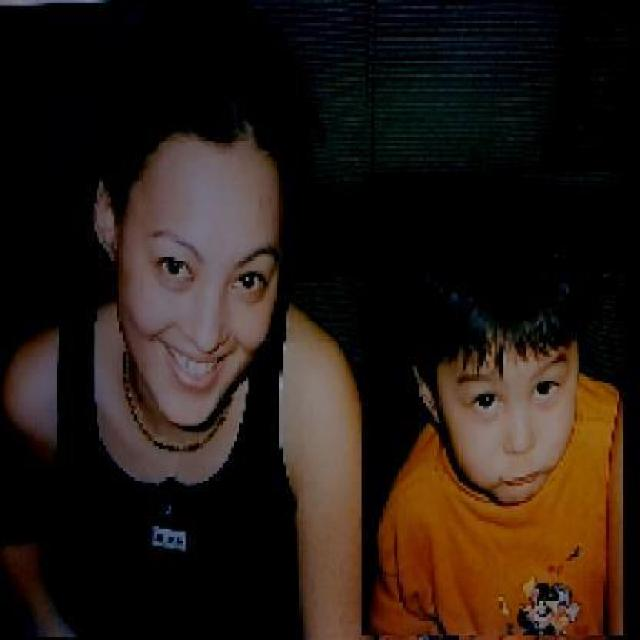child: (360, 172, 623, 637)
